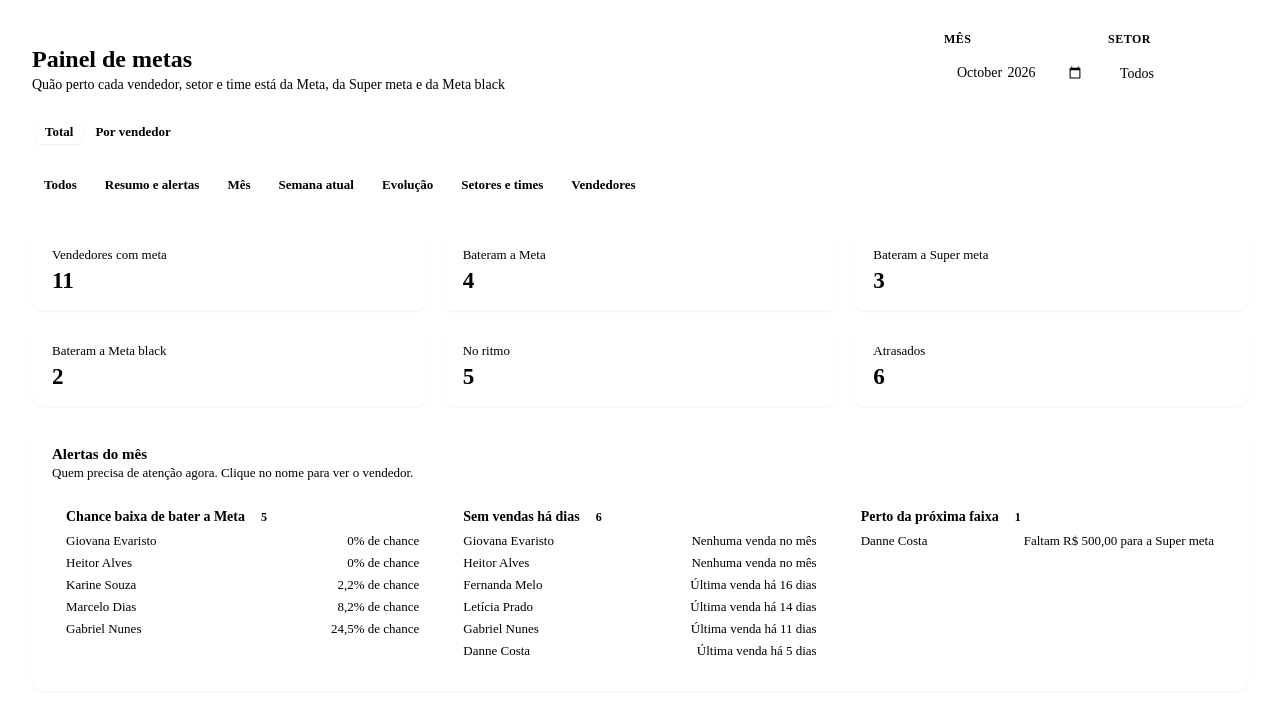
Telas de metas com os dados falsos (quarta 21/10/2026) › Metas por vendedor › o filtro de setor mostra só o setor escolhido, com Farmer e Venda dele
expect the element named "Resumo das metas" is shown: met, box [32,231,1248,406]
Select "B2G" in the dropdown named "Filtrar metas por setor" at (1178, 73), box [1108,53,1248,93]
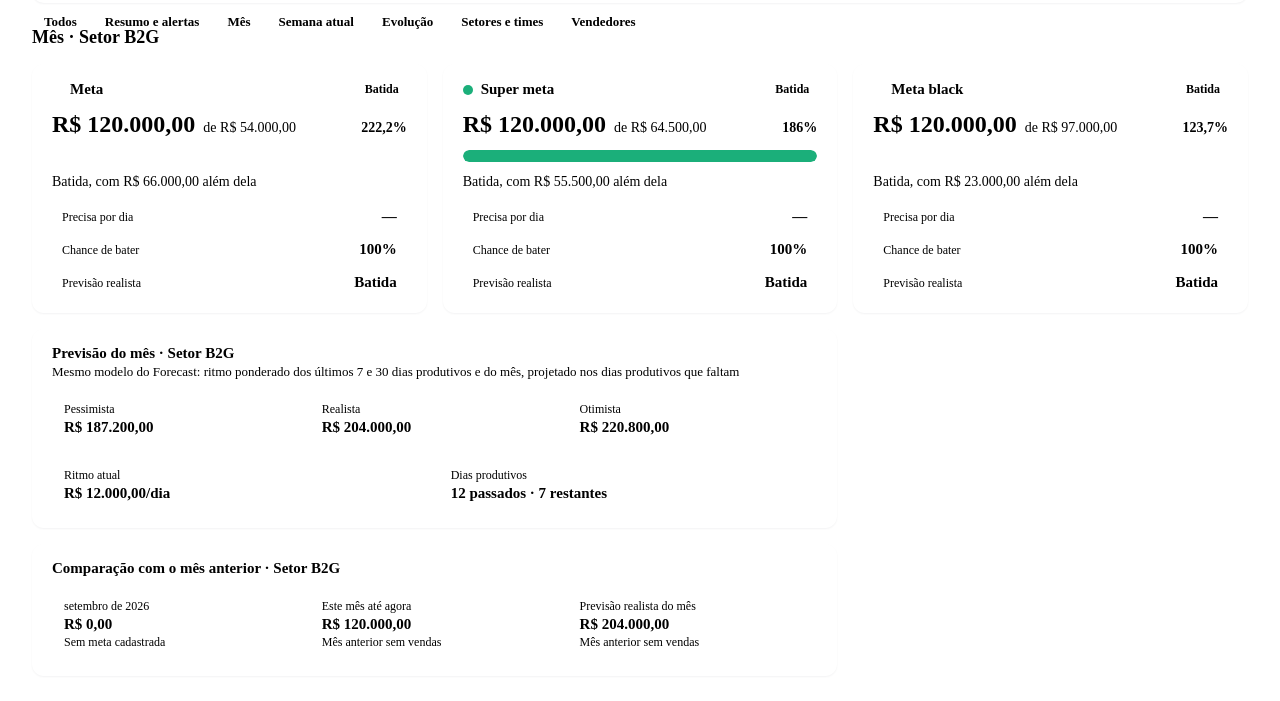
expect the element "Mês · Setor B2G" is shown: met
